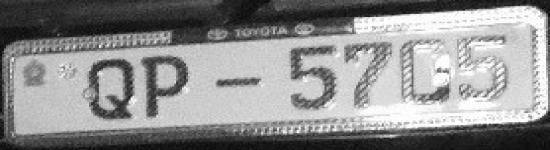-: (208, 71, 266, 93)
0: (394, 35, 453, 109)
5: (454, 32, 513, 103), (285, 41, 342, 112)
7: (342, 38, 395, 112)
P: (138, 51, 194, 122)
Q: (83, 57, 139, 122)
